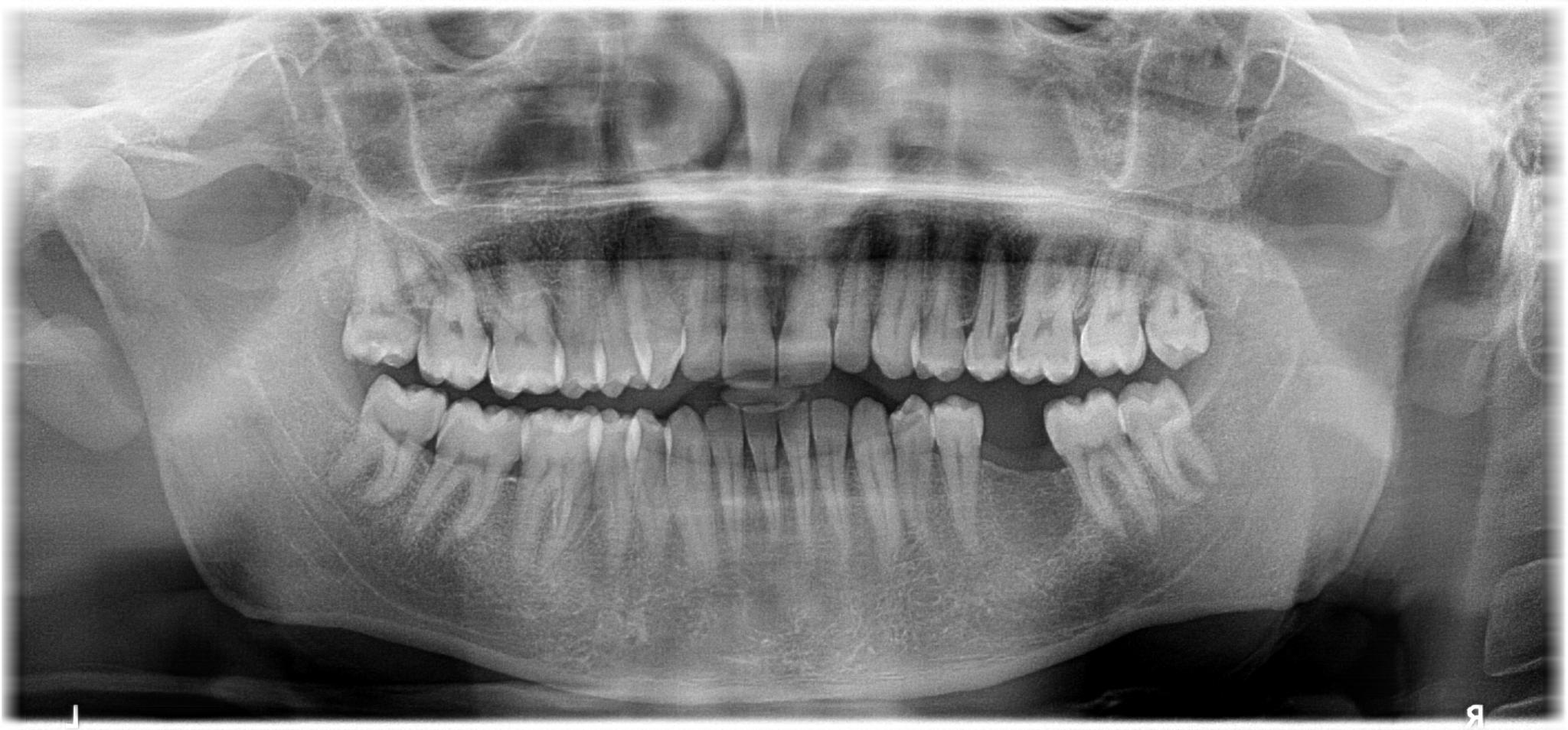Premolars: (502, 258, 1515, 514), (533, 197, 1568, 435)
